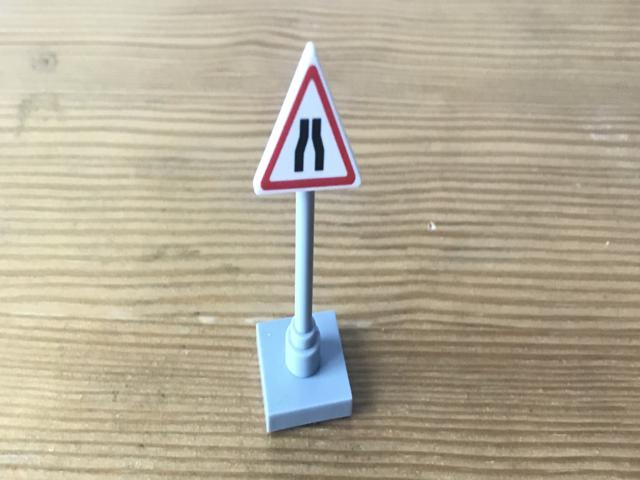verengte fahrbahn: (254, 51, 360, 192)
